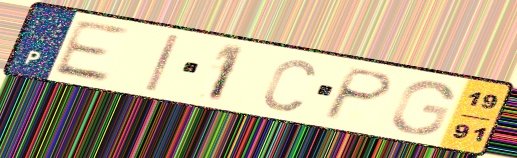1: (205, 42, 248, 105)
C: (260, 56, 319, 113)
E: (48, 17, 132, 85)
G: (388, 79, 457, 136)
I: (142, 32, 183, 94)
P: (319, 65, 398, 123)
